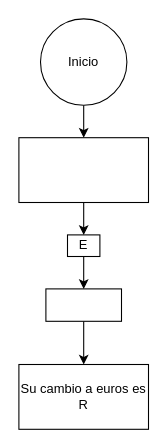
This 167x448 diagram has some shape labels left out. Here are the shapes that lost their labels. From the top down, the box of each, then its label:
(18, 137, 148, 202): Ingrese el valor en dolares
(45, 288, 122, 321): R=E*1.13
